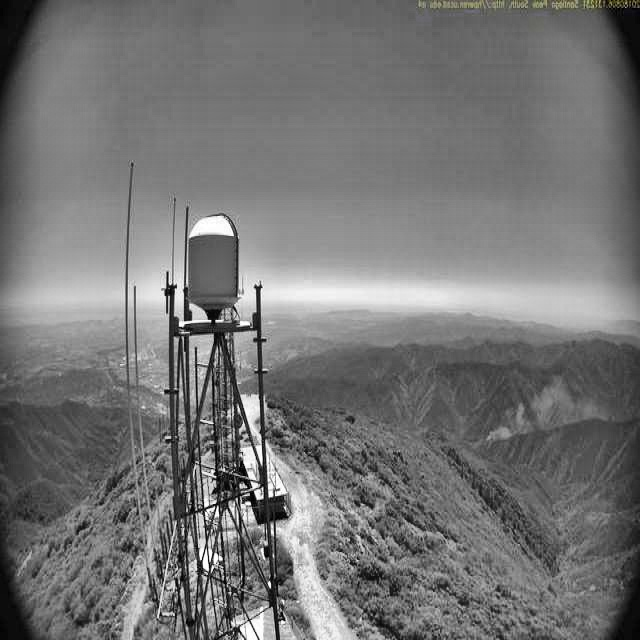smoke: (484, 361, 623, 444)
